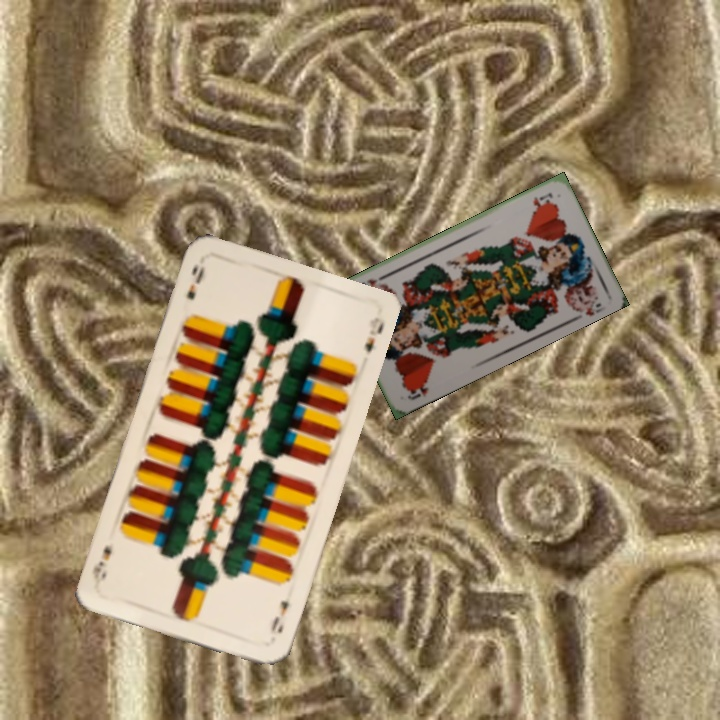E9: (182, 261, 207, 303), (267, 596, 292, 636)
HO: (403, 377, 431, 402), (529, 188, 555, 211)
